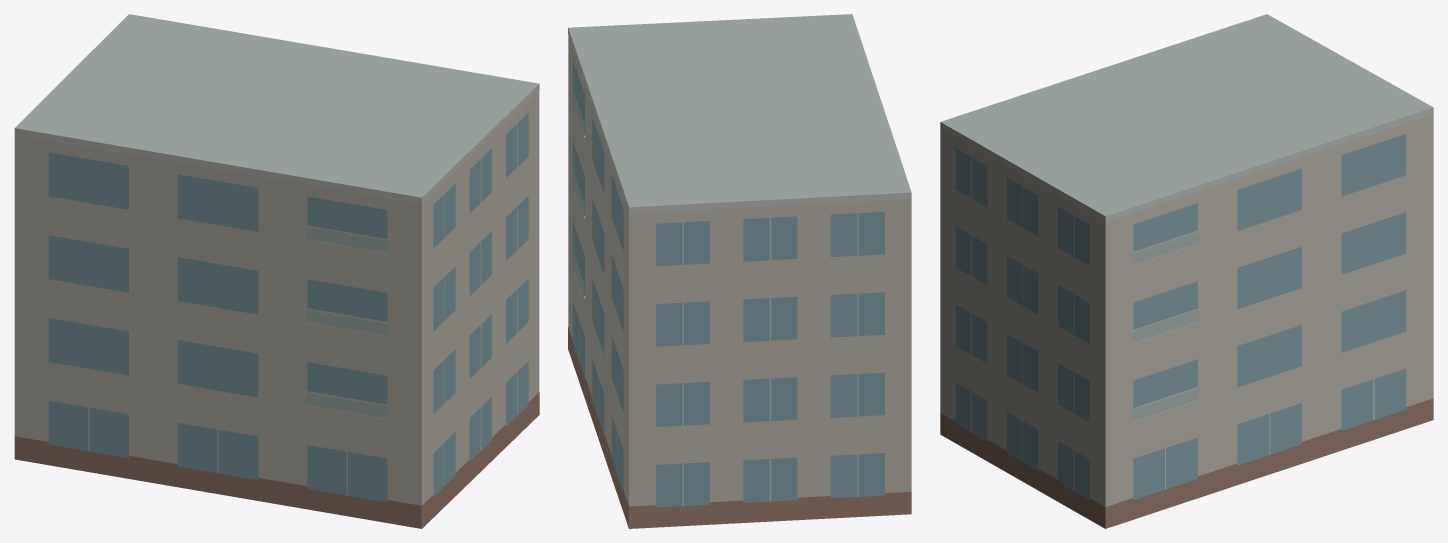
The model's file is survey-upis-32690142.glb.
3 views of the same model, side by side, from view 1: azimuth 30°, elevation 25°; view 2: azimuth 150°, elevation 25°; view 3: azimuth 270°, elevation 25° (orthographic). The views are drawn at different scales.
Visible parts, largest first — view 1: survey-upis-32690142.tmp; view 2: survey-upis-32690142.tmp; view 3: survey-upis-32690142.tmp.
Boxes of the visible parts, x1,y1,x2,y2 form: survey-upis-32690142.tmp: (14,14,539,528); survey-upis-32690142.tmp: (568,14,911,528); survey-upis-32690142.tmp: (940,14,1433,528).
Bounding box in the file's own units: 16.94 × 12.2 × 17.46.
